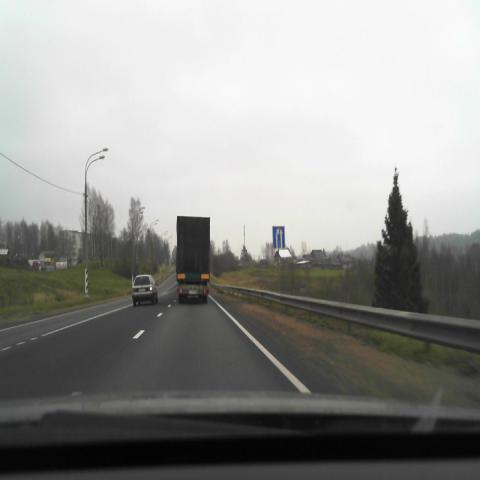5_15_5: (272, 225, 284, 248)
